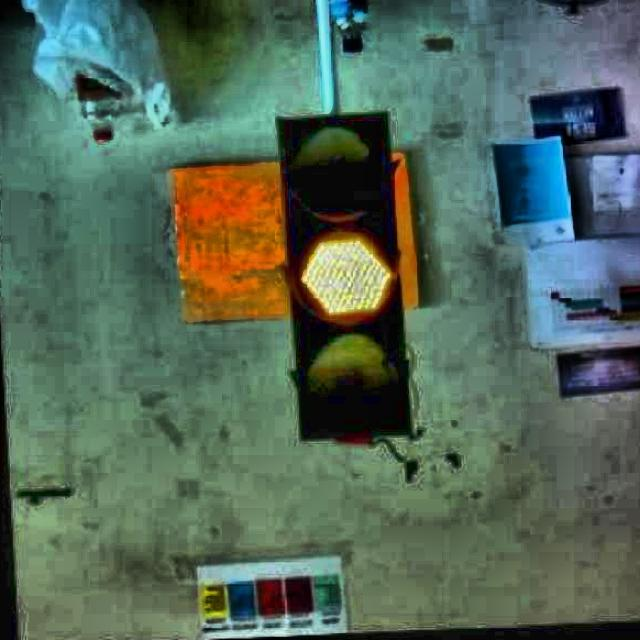yellow: (269, 111, 418, 433)
